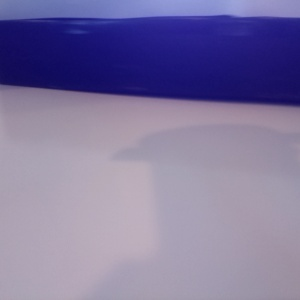zone: (1, 12, 279, 79)
